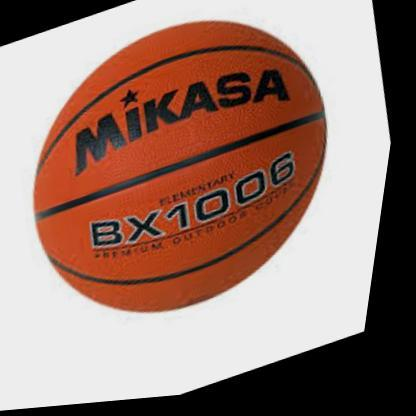basketball: (0, 0, 382, 359)
